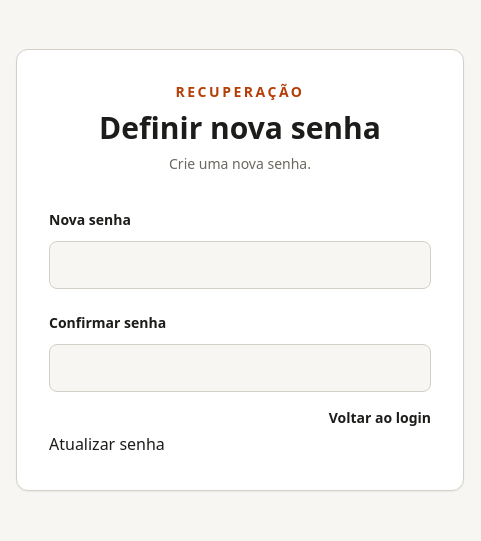
Test: ResetPasswordPage › maps network reset failures to a generic reset error
The image size is (481, 541).
Type "Password123" into the password field labelled "Nova senha" at coordinates (240, 265), box [49, 241, 431, 289]
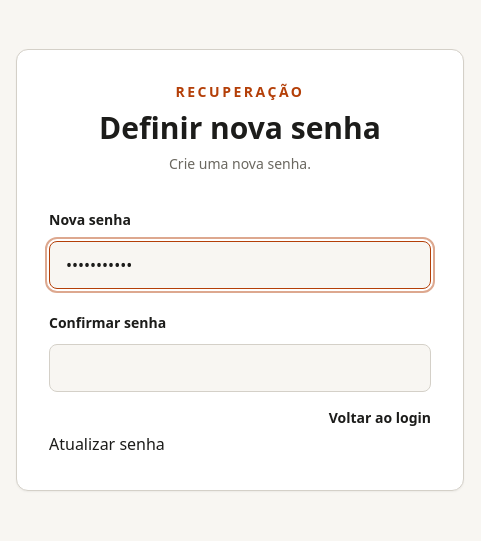
Type "Password123" into the password field labelled "Confirmar senha" at coordinates (240, 368), box [49, 344, 431, 392]
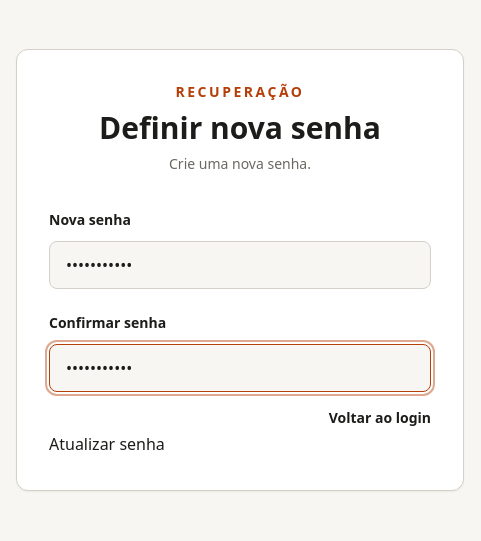
Click the button "Atualizar senha" at coordinates (107, 445), box [49, 431, 165, 458]
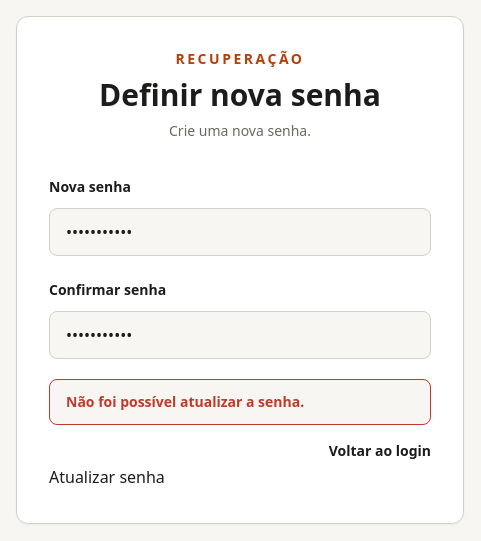
Expected: the text "Não foi possível atualizar a senha." is shown, [49, 379, 431, 425]
